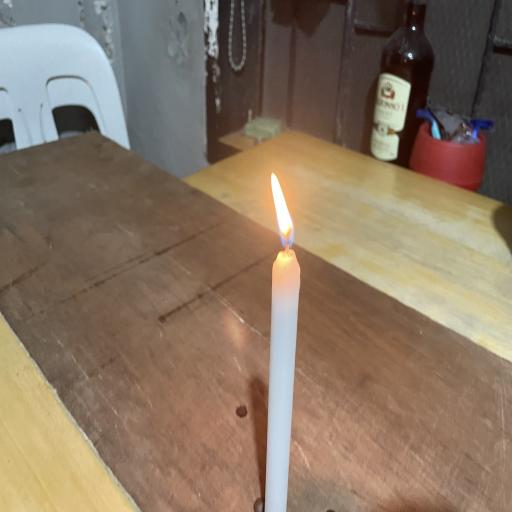fire: (258, 163, 306, 257)
